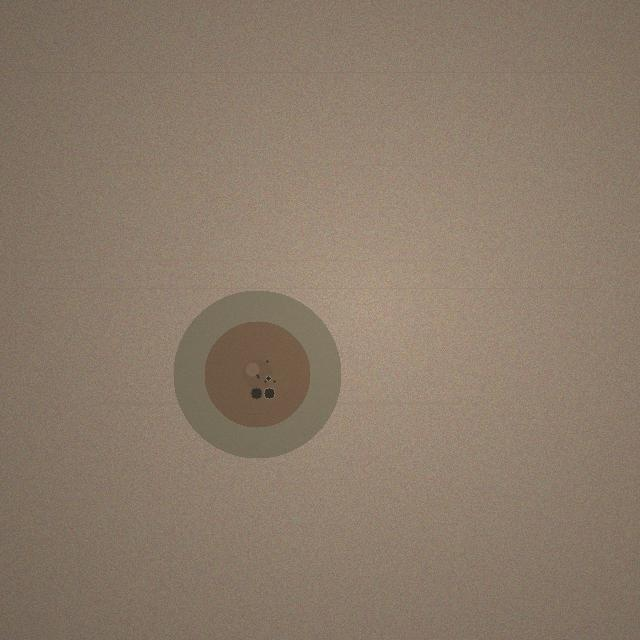shrinkage: (173, 290, 341, 458)
